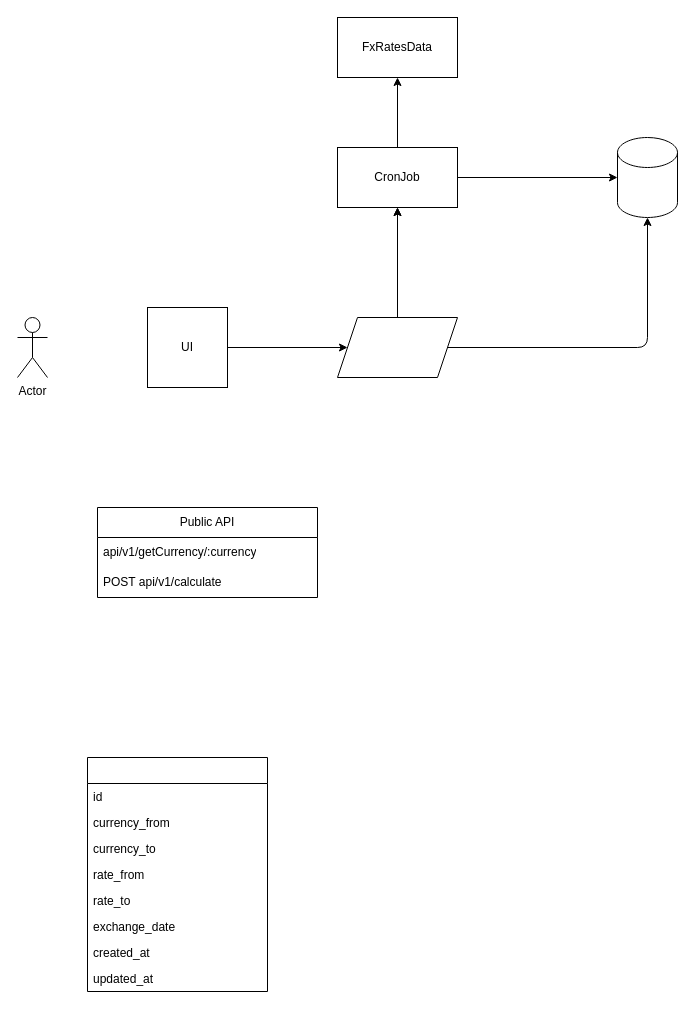
Image size: 695x1012. Some labels were removed from this diagram. The shapes that lost their labels are listed below. From the top down, each one's box as (x1, y1, x2, y2) in pixels, then its label:
(336, 316, 458, 378): APP
(86, 756, 268, 992): exchange_rate
